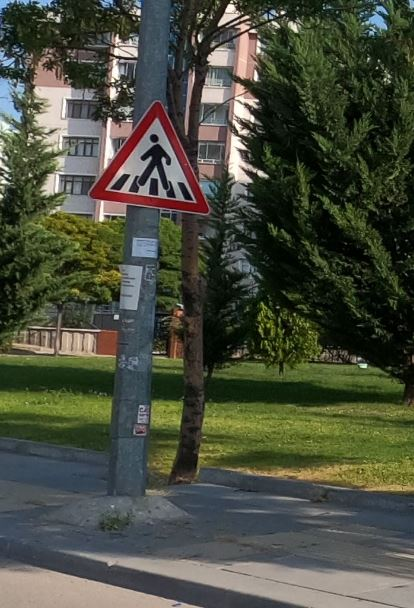Yaya Gecidi: (90, 91, 211, 217)
